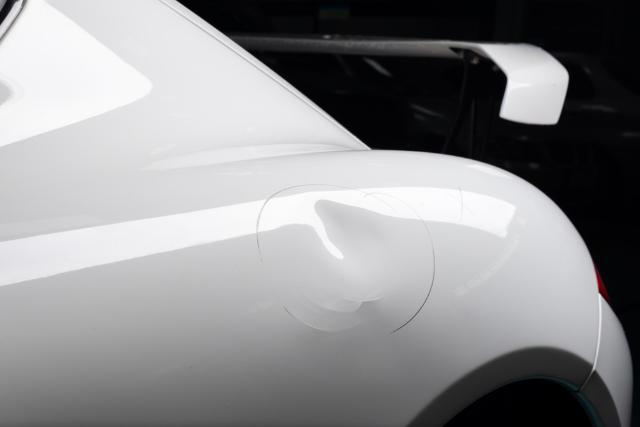dent: (285, 199, 404, 312)
